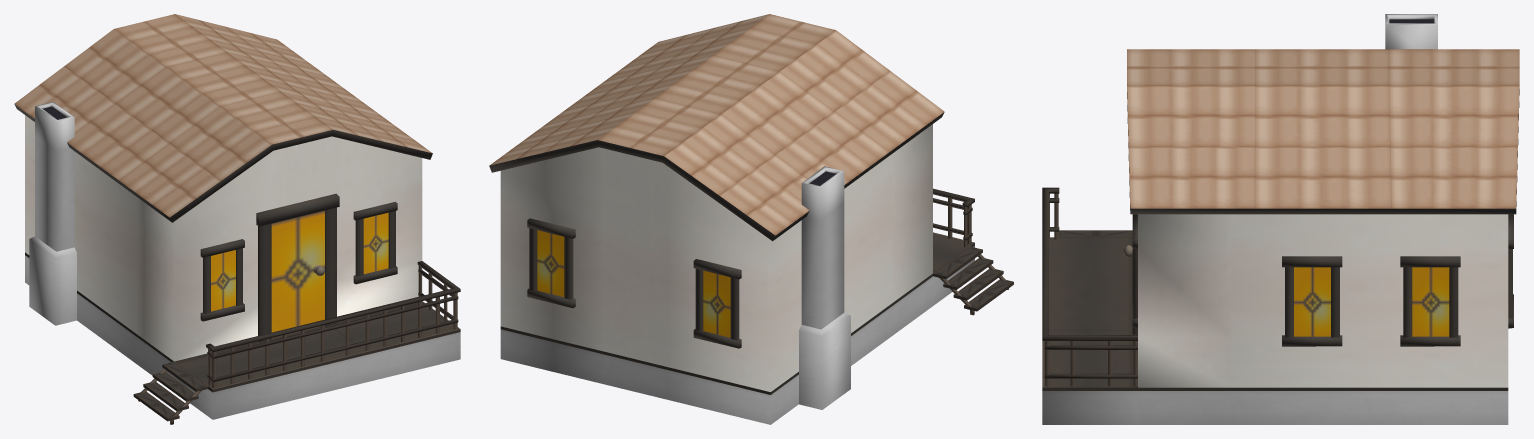
The model's file is Town Houses Variant 2 (Sepia).fbx.
The picture shows the model from 3 angles, left to right: view 1: azimuth 30°, elevation 25°; view 2: azimuth 150°, elevation 25°; view 3: azimuth 270°, elevation 25°; orthographic projection. The views are drawn at different scales.
Visible parts, largest first — view 1: Town House 2 V2; view 2: Town House 2 V2; view 3: Town House 2 V2.
Part boxes in pixels (x1,y1,x2,y2): Town House 2 V2: (14, 14, 460, 424); Town House 2 V2: (489, 14, 1013, 424); Town House 2 V2: (1042, 14, 1519, 424).
Size of the model in its own units: 667 by 490 by 751.
Materials: 1 (1 with a texture image).
